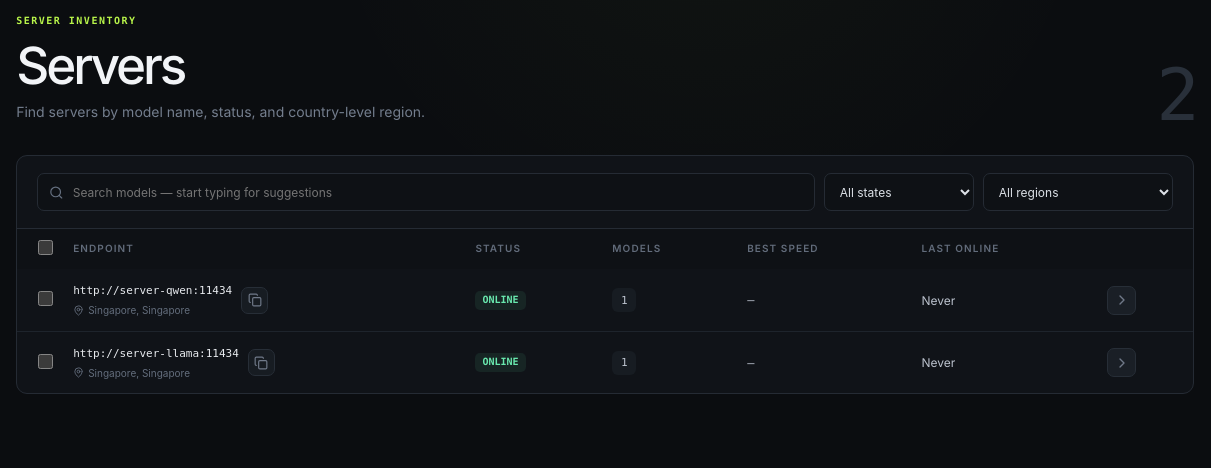
Test: server bulk actions › supports individual multi-selection and confirmed bulk deletion
The width and height of the screenshot is (1211, 468).
What coordinates should you click on to do the following:
click the checkbox named "Select http://server-qwen:11434"
I would click on:
 (45, 298)
Its box is left=38, top=291, right=53, bottom=306.
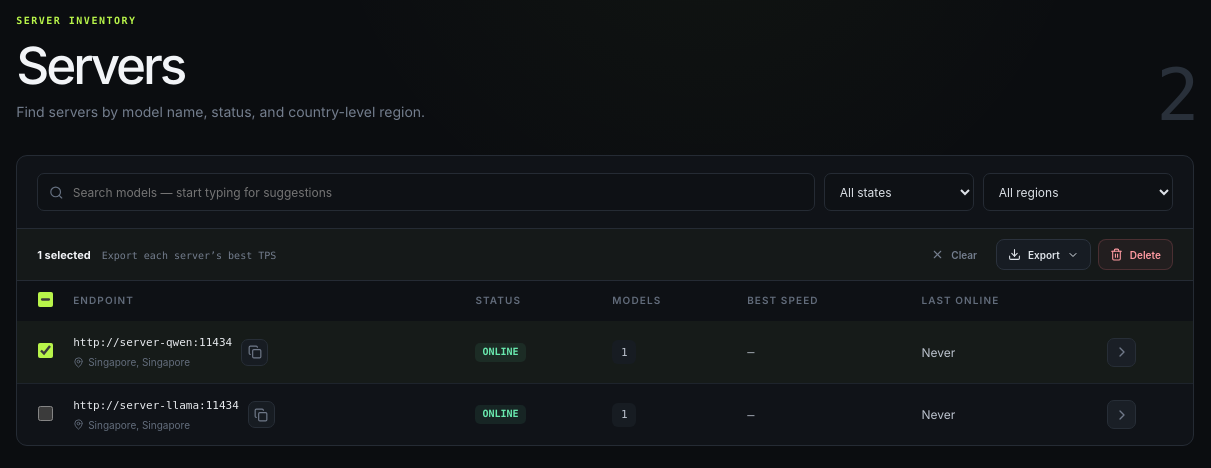
What coordinates should you click on to do the following:
click the checkbox named "Select http://server-llama:11434"
I would click on:
 (45, 413)
Its box is left=38, top=406, right=53, bottom=420.
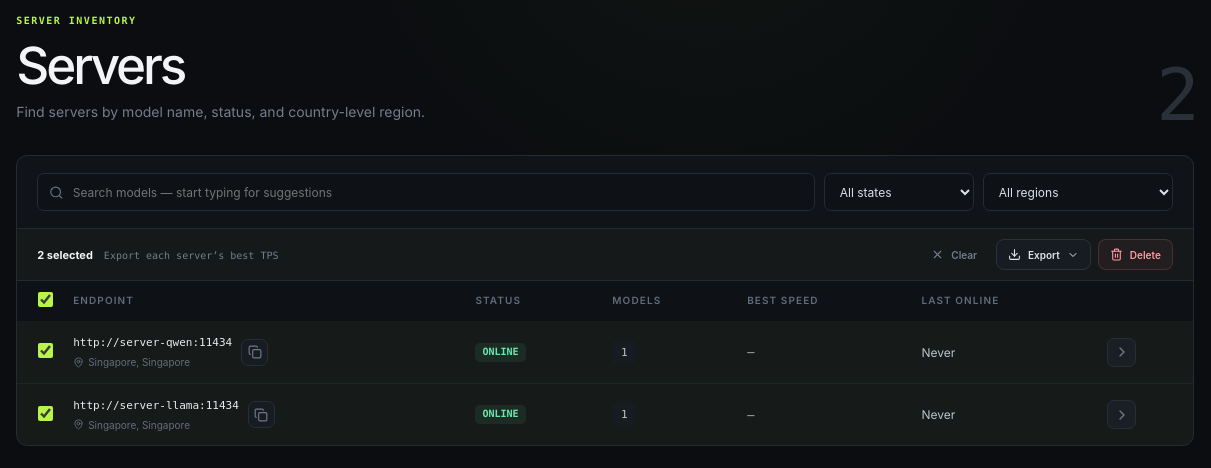
Check: the text "2 selected" is shown, box left=37, top=248, right=93, bottom=262
What coordinates should you click on to do the following:
click the button "Delete"
I would click on:
 (1135, 255)
Its box is left=1098, top=239, right=1173, bottom=270.
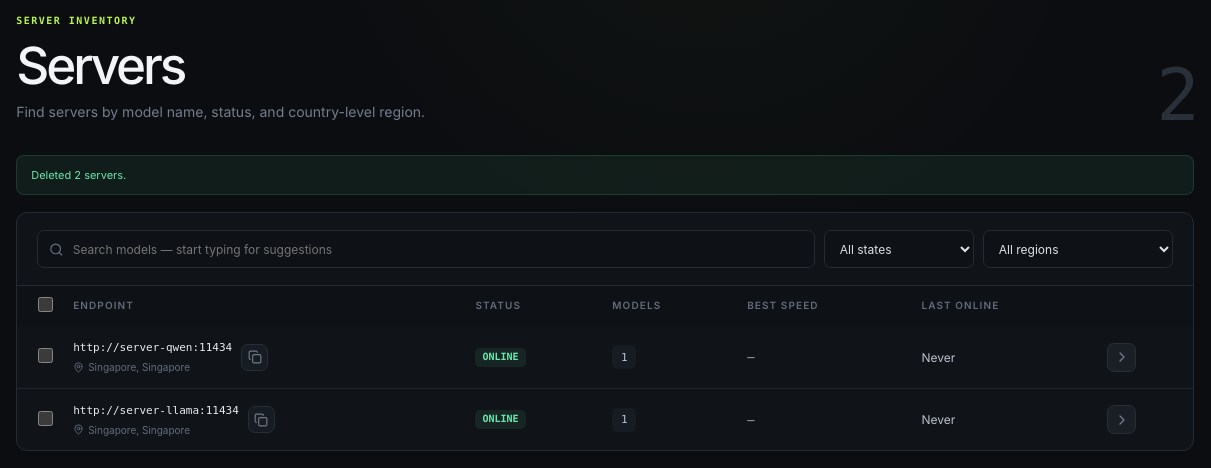
Check: the text "Deleted 2 servers." is shown, box left=16, top=155, right=1194, bottom=195
